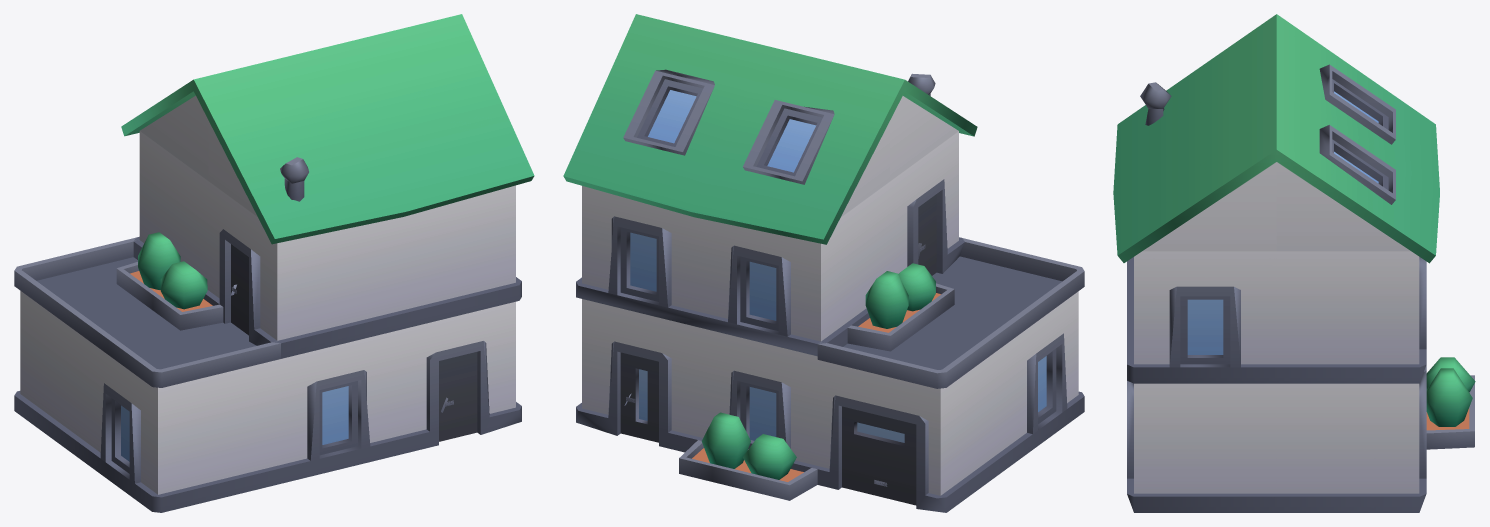
File: 068_city-kit-suburban_building-type-o_card.glb
The picture shows the model from 3 angles, left to right: view 1: azimuth 30°, elevation 25°; view 2: azimuth 150°, elevation 25°; view 3: azimuth 270°, elevation 25°; orthographic projection. The views are drawn at different scales.
Visible parts, largest first — view 1: building-type-o; view 2: building-type-o; view 3: building-type-o.
Part boxes in pixels (<box>): building-type-o: <box>14,14,534,512</box>; building-type-o: <box>563,14,1084,512</box>; building-type-o: <box>1113,14,1475,512</box>.
Bounding box in the file's own units: 1.27 × 1.14 × 1.02.
1 material, 1 textured.
